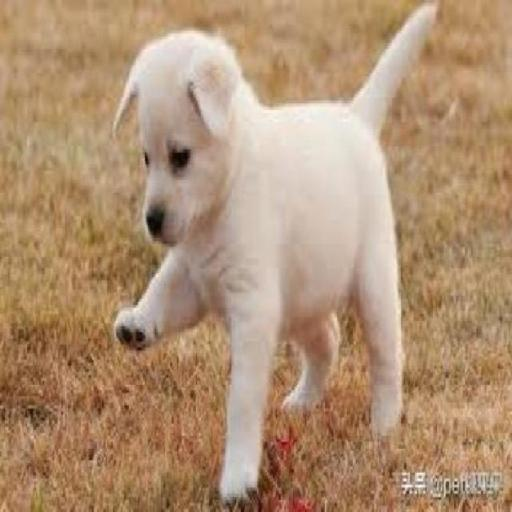Dog: (120, 38, 418, 500)
